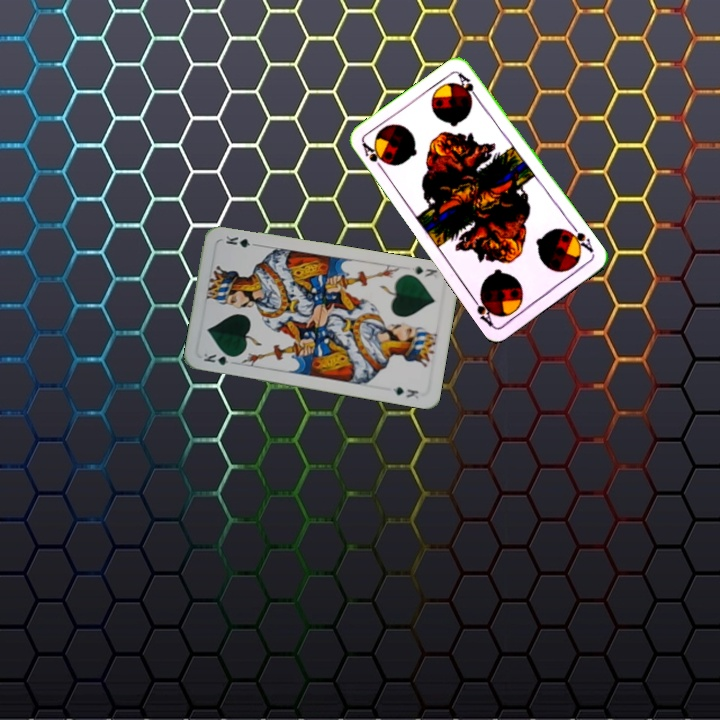GK: (200, 349, 239, 368), (408, 262, 440, 280)
SA: (562, 221, 596, 255), (358, 139, 390, 174)
